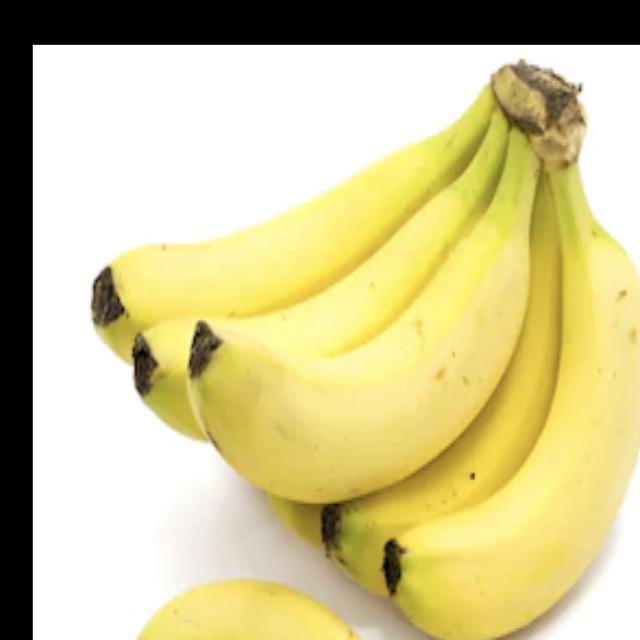Banana: (90, 60, 639, 639), (129, 576, 371, 639)
